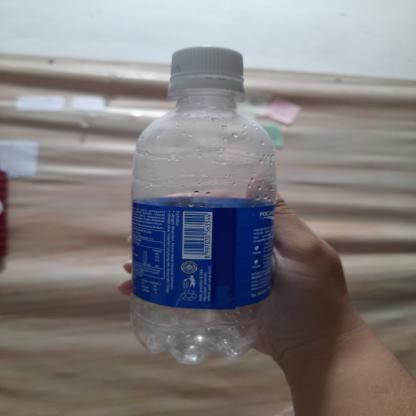bottle: (125, 43, 280, 372)
